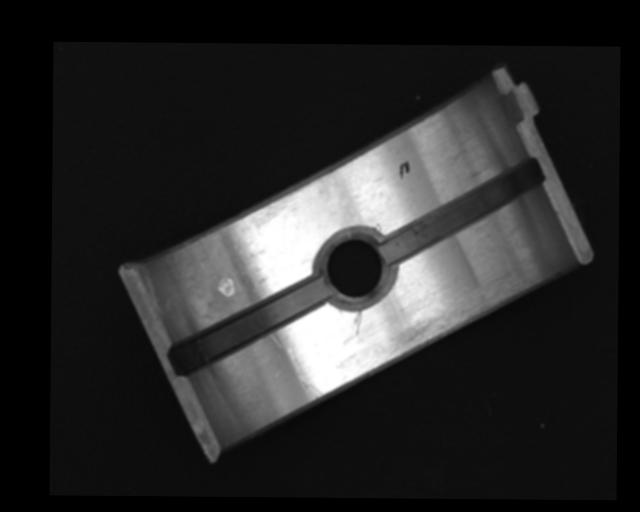blot: (397, 159, 410, 179)
bruise: (216, 276, 234, 297)
gap: (381, 159, 544, 263), (169, 280, 326, 372)
hole: (316, 228, 398, 305)
nick: (286, 345, 324, 400), (353, 309, 362, 335)
scratch: (392, 279, 539, 358)
